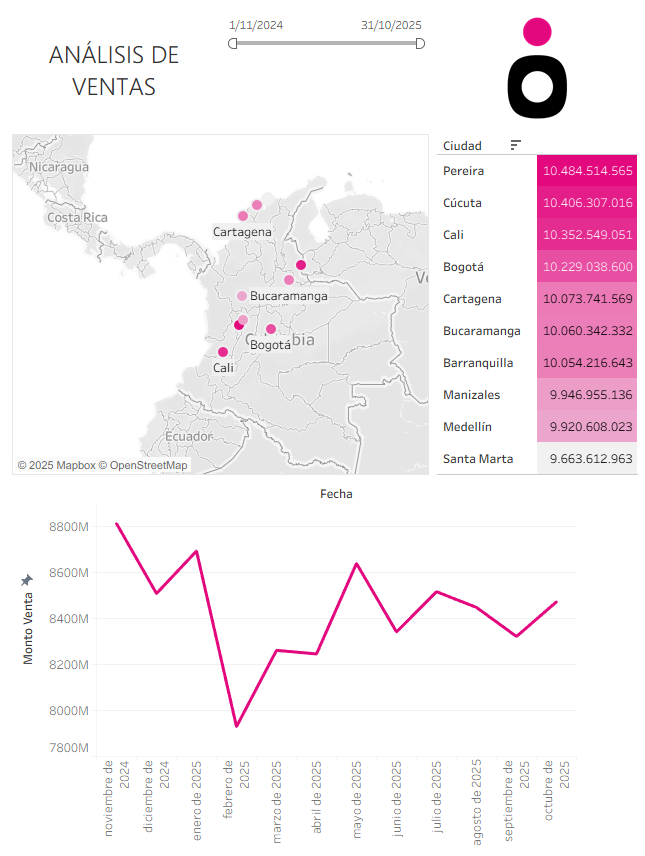

Layout of this report page (visuals, bound fields, positions):
{"tool":"tableau","page":{"name":"ANÁLISIS DE VENTAS","canvas":[650,860],"ordinal":0},"visuals":[{"type":"title","box":[8,8,212.5,122]},{"type":"filter","title":"Ventas por Tiempo","param":"[federated.1rk0y2p01gethj1e7u6fs0t2cecb].[none:fecha:qk]","box":[220.5,8,212.5,122]},{"type":"image","param":"Image/punto_red_icon_new.14c35dbb.png","box":[433,8,209,122]},{"type":"worksheet","title":"Ventas por Ciudad","mark":"Automatic","box":[8,130,425,349]},{"type":"worksheet","title":"RANKING","mark":"Square","rows":["ciudad"],"box":[433,130,209,349]},{"type":"worksheet","title":"Ventas por Tiempo","mark":"Automatic","rows":["monto_venta"],"cols":["fecha"],"box":[8,479,634,373]}]}

Visuals, with their boxes in screenshot pixels (x1, y1, x2, y2), scaled from the page's 650x860 canvas onto the 645x856 screenshot:
title: [x1=8, y1=8, x2=219, y2=129]
"Ventas por Tiempo" filter: [x1=219, y1=8, x2=430, y2=129]
image: [x1=430, y1=8, x2=637, y2=129]
"Ventas por Ciudad" worksheet: [x1=8, y1=129, x2=430, y2=477]
"RANKING" worksheet (Square marks): [x1=430, y1=129, x2=637, y2=477]
"Ventas por Tiempo" worksheet: [x1=8, y1=477, x2=637, y2=848]
